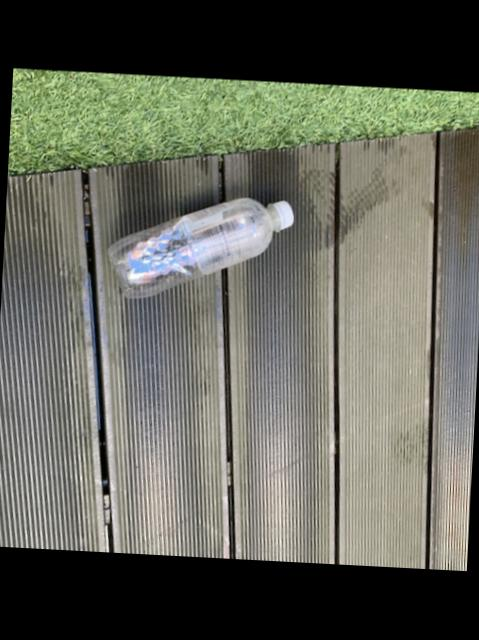plastic: (108, 197, 293, 297)
